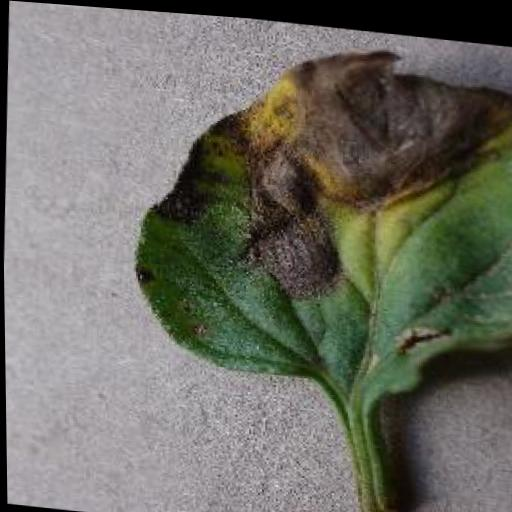Early Blight: (127, 20, 512, 400)
